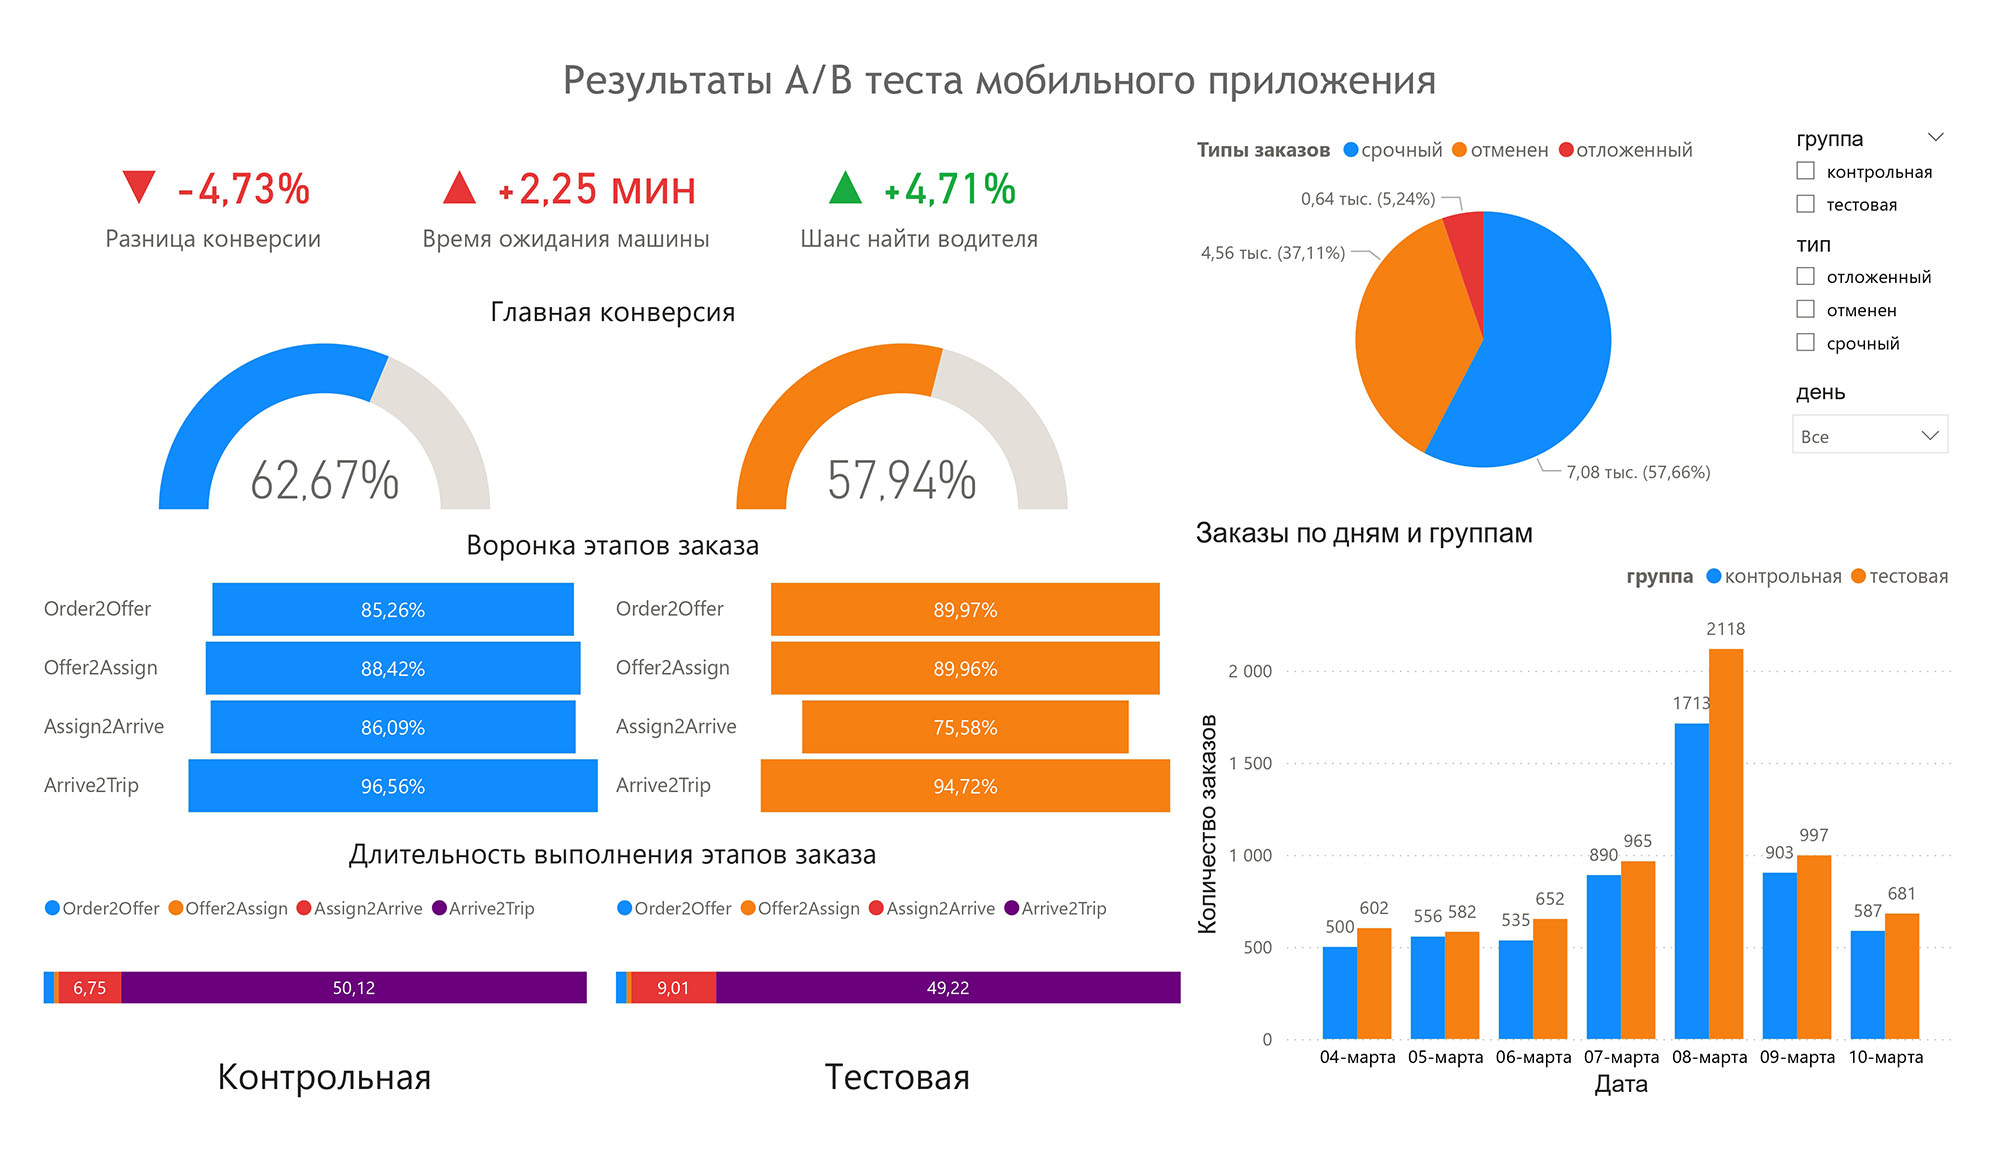

The dashboard page shown, as its layout file describes it:
{"tool":"powerbi","page":{"name":"Страница 1","canvas":[1280,720],"ordinal":0},"visuals":[{"type":"clusteredColumnChart","title":"Заказы по дням и группам","fields":{"Category":["datapark.test_group","datapark.день"],"Y":["CountNonNull(datapark.test_group)"],"Series":["datapark.test_group"]},"box":[765.3,319.1,514.7,390.2],"z":0},{"type":"barChart","title":"Контрольная группа","fields":{"Y":["datapark.Order2Offer_avg","datapark.Offer2Assign_avg","datapark.Assign2Arrive_avg","datapark.Arrive2Trip_avg"]},"box":[0,559.1,380.4,108.4],"z":1000},{"type":"pieChart","title":"Типы заказов","fields":{"Category":["datapark.order_type"],"Y":["CountNonNull(datapark.test_group)"],"Series":["datapark.order_type"]},"box":[766.2,55.1,389.3,264],"z":2000},{"type":"barChart","title":"Тестовая группа","fields":{"Y":["datapark.Order2Offer_avg","datapark.Offer2Assign_avg","datapark.Assign2Arrive_avg","datapark.Arrive2Trip_avg"]},"box":[380.4,559.1,385.8,108.4],"z":3000},{"type":"gauge","title":"Контрольная группа","fields":{"Y":["datapark.Конверсия %"]},"box":[0,199.1,383.1,120],"z":4000},{"type":"slicer","fields":{"Values":["datapark.test_group"]},"box":[1155.6,55.1,124.4,86.2],"z":5000},{"type":"slicer","fields":{"Values":["datapark.день"]},"box":[1155.6,223.1,124.4,63.1],"z":6000},{"type":"slicer","fields":{"Values":["datapark.order_type"]},"box":[1155.6,125.3,124.4,99.6],"z":7000},{"type":"funnel","title":"Воронка","fields":{"Y":["datapark.Order2Offer, %","datapark.Offer2Assign, %","datapark.Assign2Arrive, %","datapark.Arrive2Trip, %"]},"box":[0,353.8,383.1,170.7],"z":8000},{"type":"textbox","box":[0,667.6,383.1,41.8],"z":8000,"group":"g1"},{"type":"funnel","title":"Воронка","fields":{"Y":["datapark.Order2Offer, %","datapark.Offer2Assign, %","datapark.Assign2Arrive, %","datapark.Arrive2Trip, %"]},"box":[380.4,353.8,382.2,170.7],"z":9000},{"type":"gauge","title":"Тестовая группа","fields":{"Y":["datapark.Конверсия %"]},"box":[384,199.1,382.2,120],"z":10000},{"type":"textbox","box":[380.4,667.6,383.1,41.8],"z":10000,"group":"g1"},{"type":"group","id":"g1","title":"Группа 4","box":[0,667.6,763.6,41.8],"z":11000},{"type":"card","fields":{"Values":["datapark.Разница конверсии"]},"box":[0,55.1,234.7,109.3],"z":12000},{"type":"card","fields":{"Values":["datapark.Разница ожидания"]},"box":[234.7,55.1,234.7,109.3],"z":13000},{"type":"card","fields":{"Values":["datapark.Шанс водителя"]},"box":[469.3,55.1,234.7,109.3],"z":14000},{"type":"textbox","box":[0,164.4,766.2,34.7],"z":15000},{"type":"textbox","box":[0,319.1,766.2,34.7],"z":16000},{"type":"textbox","box":[0,524.4,766.2,34.7],"z":17000},{"type":"textbox","box":[0,8,1280,47],"z":17001}]}

Visuals, with their boxes in screenshot pixels (x1, y1, x2, y2), scaled from the page's 1280x720 canvas onto the 2000x1157 screenshot:
"Заказы по дням и группам" clusteredColumnChart: 1196/513/1999/1140
"Контрольная группа" barChart: 0/898/594/1073
"Типы заказов" pieChart: 1197/89/1805/513
"Тестовая группа" barChart: 594/898/1197/1073
"Контрольная группа" gauge: 0/320/599/513
slicer - datapark.test_group: 1806/89/1999/227
slicer - datapark.день: 1806/359/1999/460
slicer - datapark.order_type: 1806/201/1999/361
"Воронка" funnel: 0/569/599/843
textbox: 0/1073/599/1140
"Воронка" funnel: 594/569/1192/843
"Тестовая группа" gauge: 600/320/1197/513
textbox: 594/1073/1193/1140
"Группа 4" group: 0/1073/1193/1140
card - datapark.Разница конверсии: 0/89/367/264
card - datapark.Разница ожидания: 367/89/733/264
card - datapark.Шанс водителя: 733/89/1100/264
textbox: 0/264/1197/320
textbox: 0/513/1197/569
textbox: 0/843/1197/898
textbox: 0/13/1999/88
